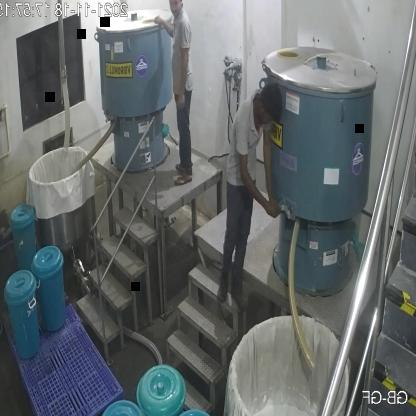no_glove: (239, 144, 275, 224), (173, 44, 190, 112)
no_shoes: (175, 172, 193, 186)
shoes: (216, 272, 230, 306)
